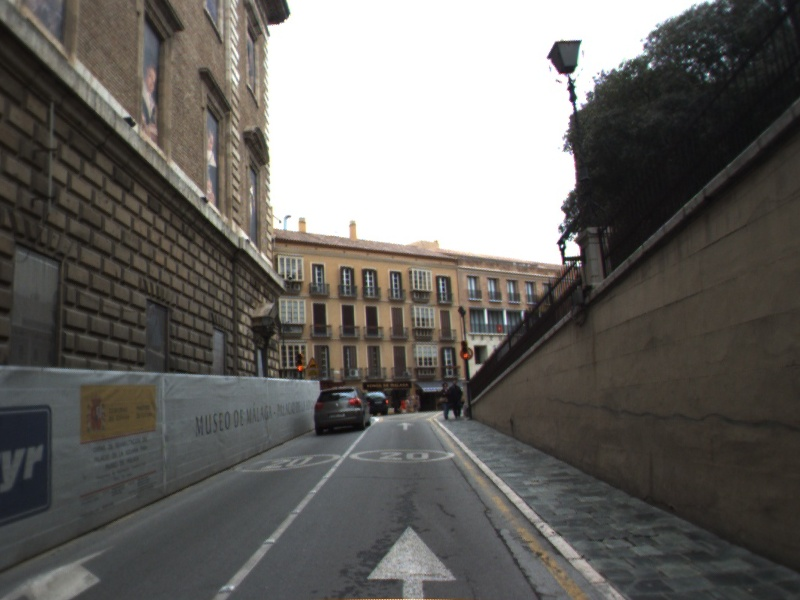LEFT: (1, 539, 121, 600)
STRAIGHT: (364, 518, 461, 600), (395, 420, 416, 432)
